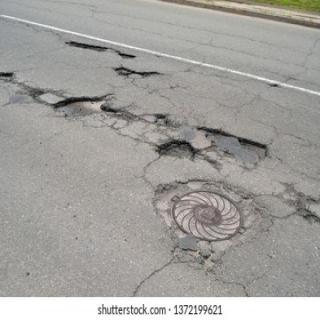pothole: (196, 128, 267, 166), (50, 94, 124, 118), (64, 42, 135, 58), (156, 140, 196, 160), (113, 67, 158, 76), (0, 72, 14, 80)
